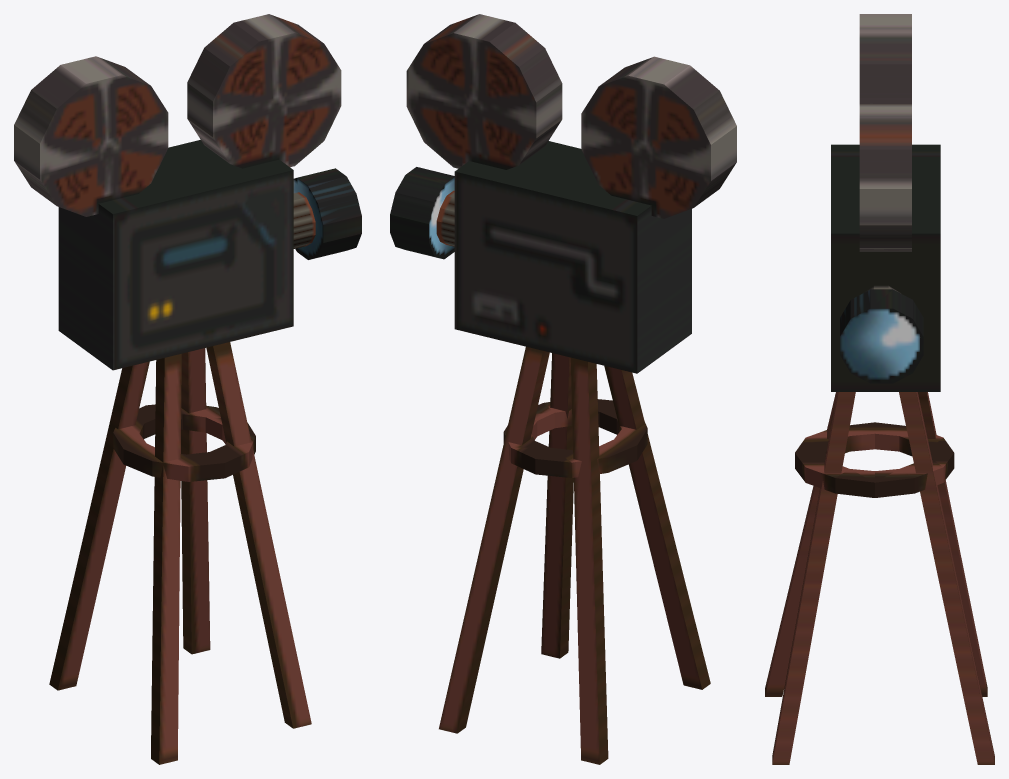
Rendered from movcam.glb.
3 views of the same model, side by side, from view 1: azimuth 30°, elevation 25°; view 2: azimuth 150°, elevation 25°; view 3: azimuth 270°, elevation 25° (orthographic).
Parts seen in each view (by area): view 1: movcam; view 2: movcam; view 3: movcam.
Part boxes in pixels (<box>): movcam: <box>14,14,361,764</box>; movcam: <box>390,14,736,764</box>; movcam: <box>765,14,994,764</box>.
Bounding box in the file's own units: 106 × 213 × 67.
1 material, 1 textured.
